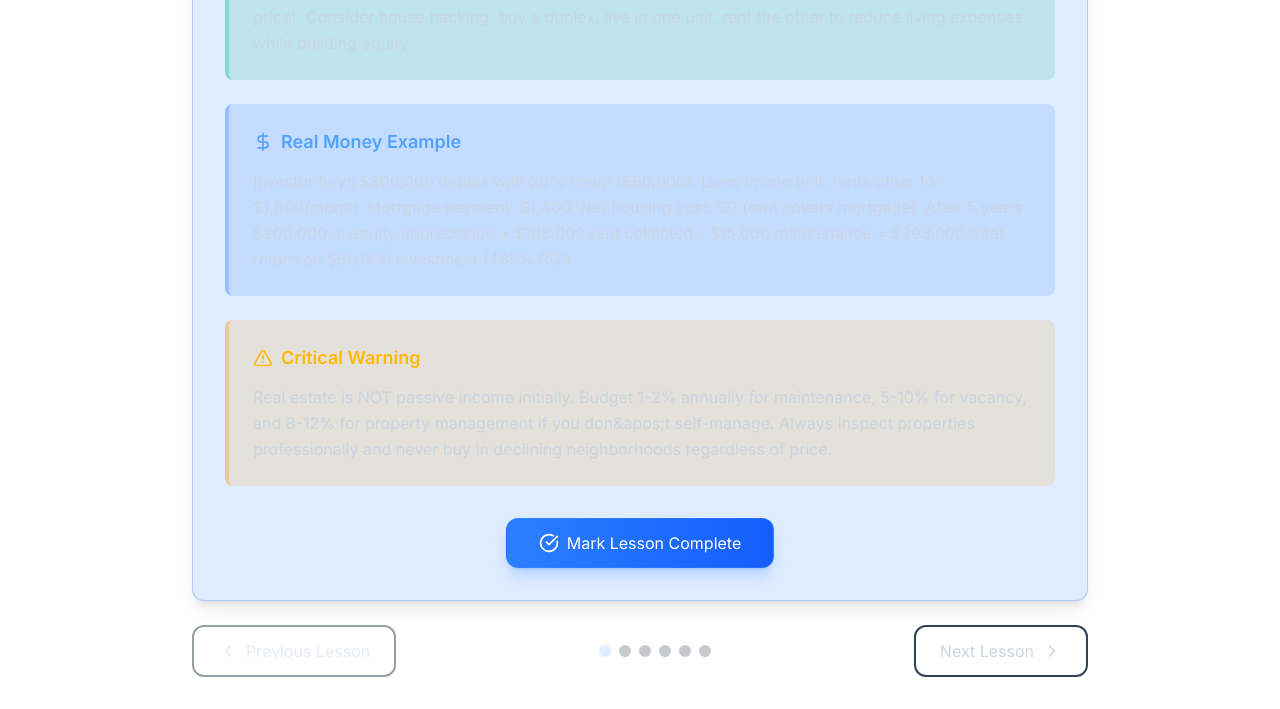
Scenario: RealEstateAlternativesLessonEnhanced › shows lesson completion state
(page scrolled)
# Mark lesson as complete
Click the button "Mark Lesson Complete".
click(640, 543)  # box x1=506 y1=518 x2=774 y2=568
(page scrolled)
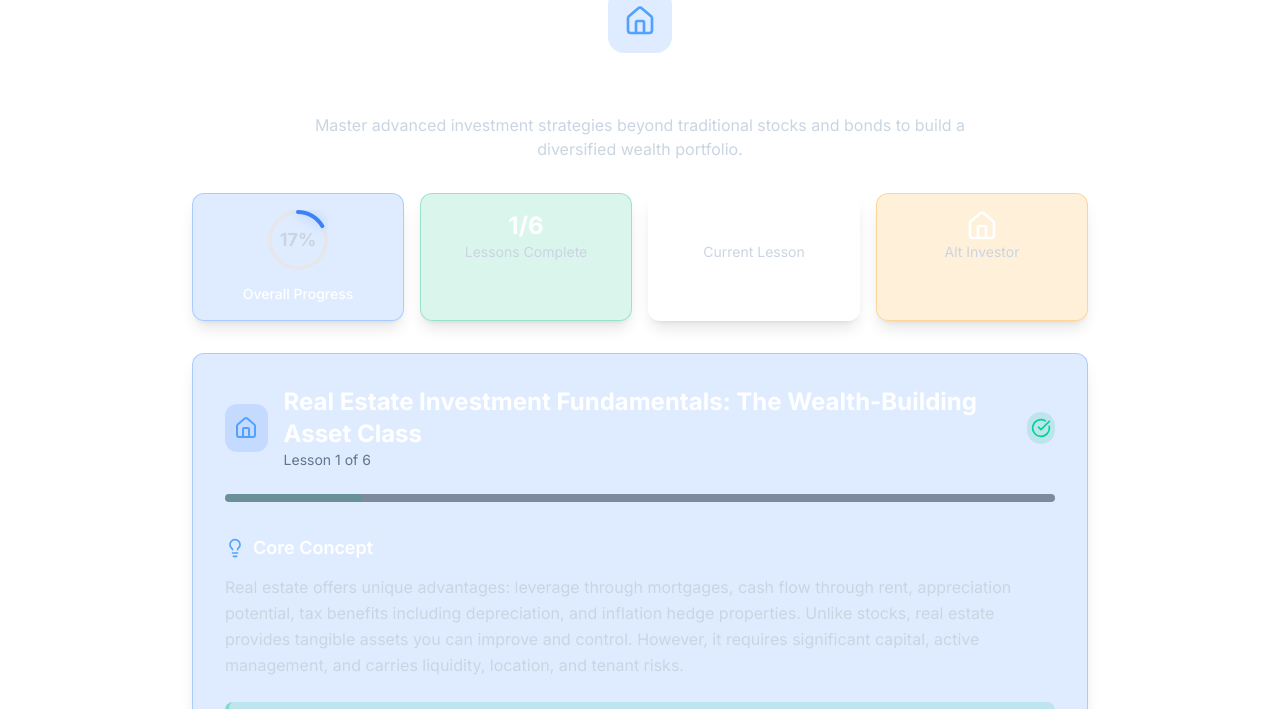
Expected: the button "Mark Lesson Complete" is gone
Expected: the text "1/6" is shown, x1=508 y1=211 x2=544 y2=240
